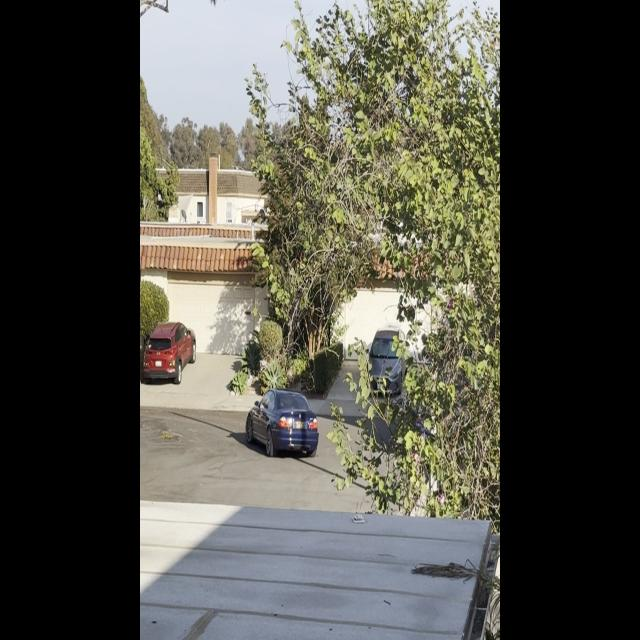Carbeetle: (242, 378, 320, 461)
Civilian: (140, 318, 199, 383), (363, 320, 409, 403)
